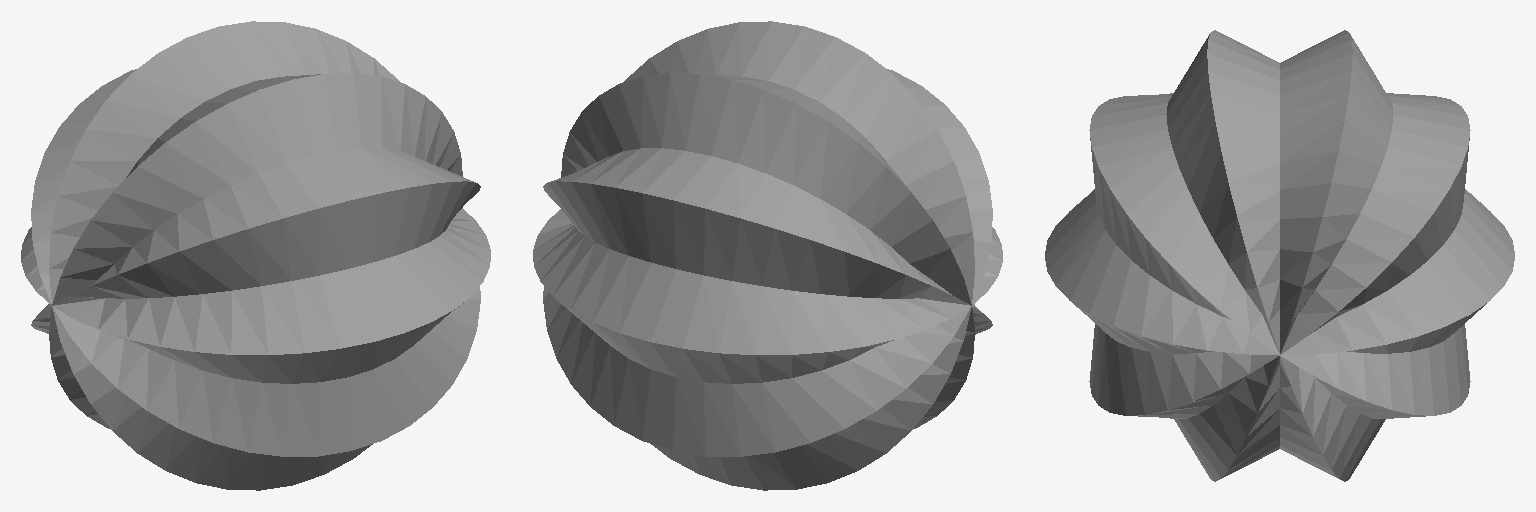
Rendered from burr1.obj.
3 renders of one model, left to right at view 1: azimuth 30°, elevation 25°; view 2: azimuth 150°, elevation 25°; view 3: azimuth 270°, elevation 25°, orthographic.
Parts seen in each view (by area): view 1: burr_01_-_Default.001_burr_01_-_Default.001_Material.001; view 2: burr_01_-_Default.001_burr_01_-_Default.001_Material.001; view 3: burr_01_-_Default.001_burr_01_-_Default.001_Material.001.
Boxes of the visible parts, x1=… form: burr_01_-_Default.001_burr_01_-_Default.001_Material.001: x1=21, y1=21, x2=490, y2=490; burr_01_-_Default.001_burr_01_-_Default.001_Material.001: x1=533, y1=21, x2=1002, y2=490; burr_01_-_Default.001_burr_01_-_Default.001_Material.001: x1=1045, y1=30, x2=1514, y2=481.
Bounding box in the file's own units: 0.04 × 0.038 × 0.04.